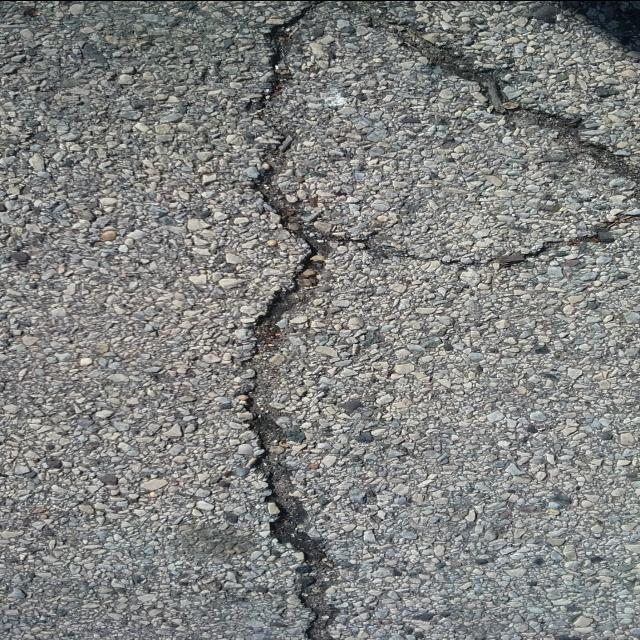Crack: (242, 0, 640, 640)
